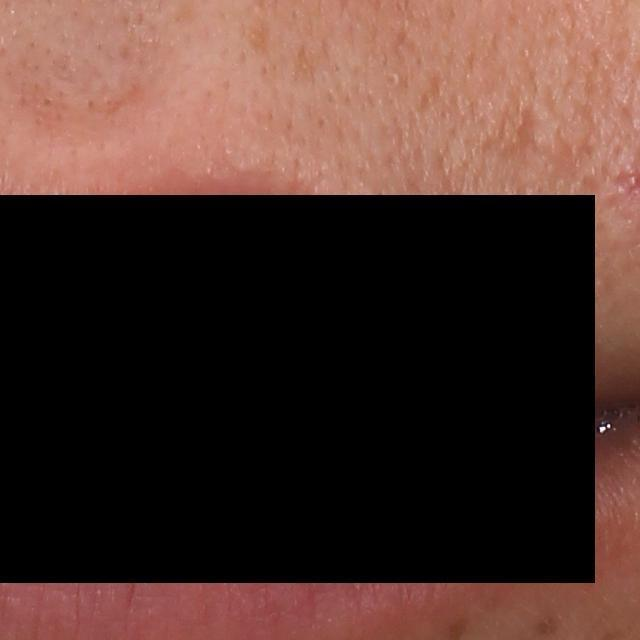atrophic_scar: (502, 107, 547, 166)
melasma: (532, 618, 564, 640)
